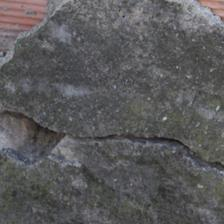Crack: (67, 0, 156, 75), (129, 33, 176, 93)
